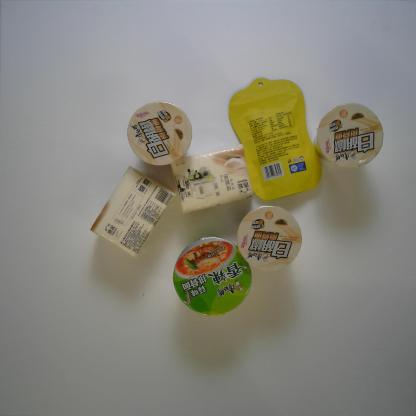Dried Fruit: (228, 77, 322, 202)
Instant Noodles: (172, 236, 252, 317), (317, 102, 384, 170), (236, 205, 302, 272), (127, 101, 192, 166)
Tissue: (89, 166, 176, 258), (171, 142, 254, 214)
